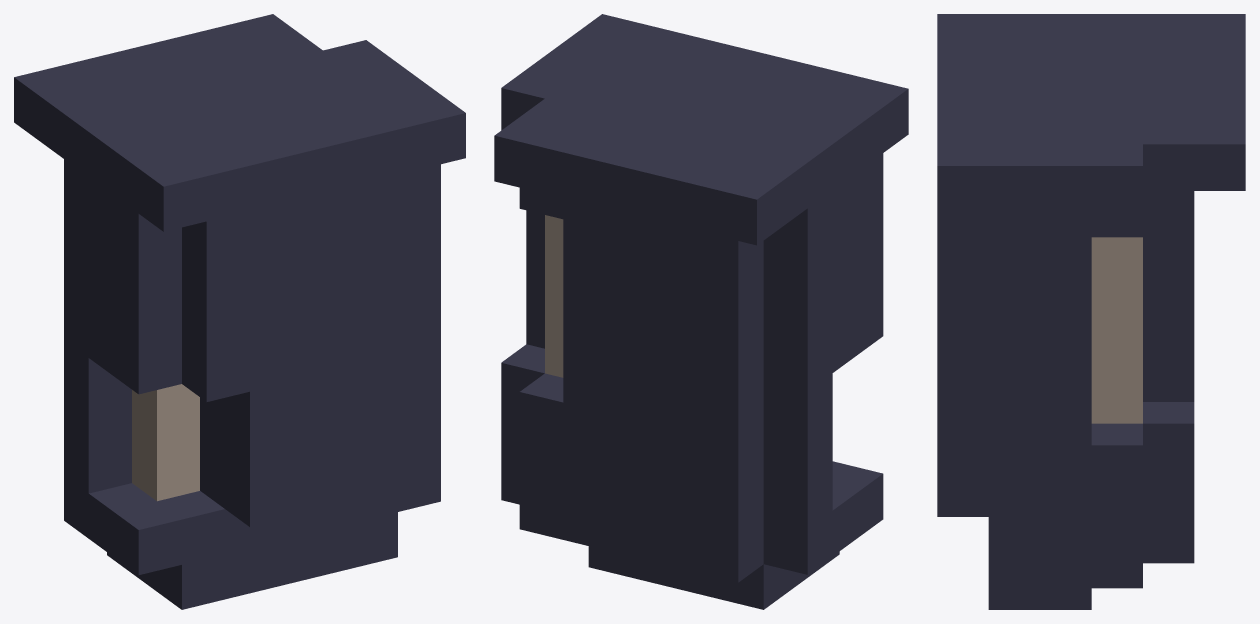
The model's file is Leg_R_U.obj.
3 renders of one model, left to right at view 1: azimuth 30°, elevation 25°; view 2: azimuth 150°, elevation 25°; view 3: azimuth 270°, elevation 25°, orthographic. The views are drawn at different scales.
Size of the model in its own units: 0.7 by 1 by 0.6.
1 material, 1 textured.
